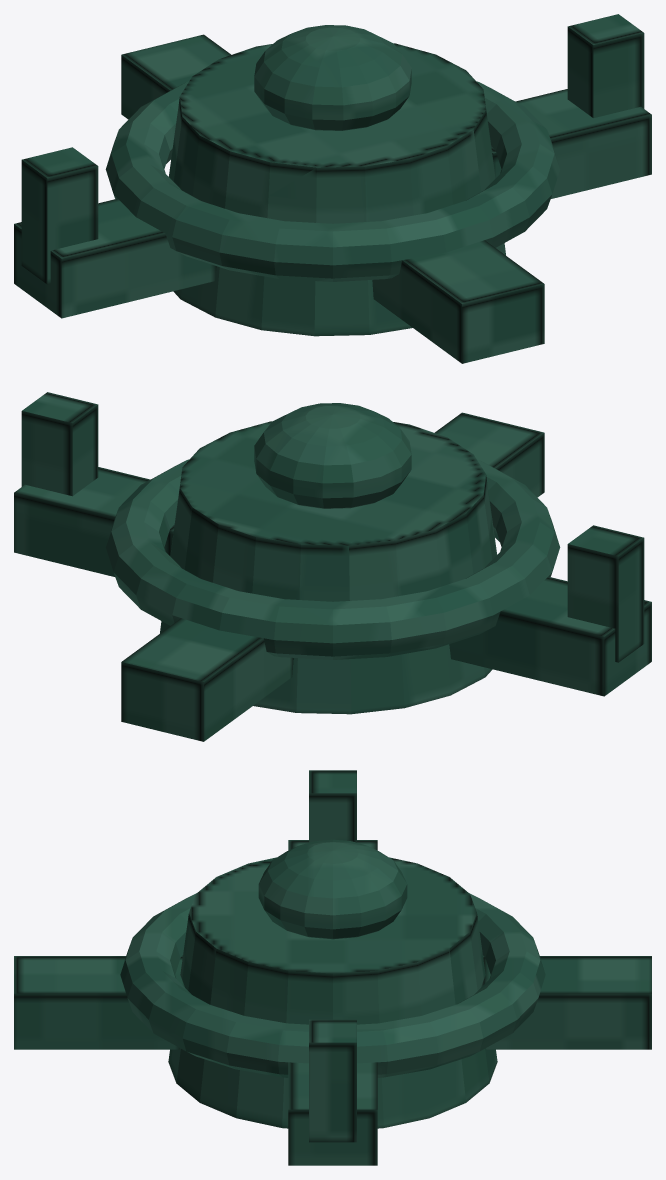
Rendered from resolution_catalyst.obj.
3 views of the same model, one above another, from view 1: azimuth 30°, elevation 25°; view 2: azimuth 150°, elevation 25°; view 3: azimuth 270°, elevation 25° (orthographic). The views are drawn at different scales.
Size of the model in its own units: 0.94 by 0.3398 by 0.93.
Materials: 1 (1 with a texture image).
